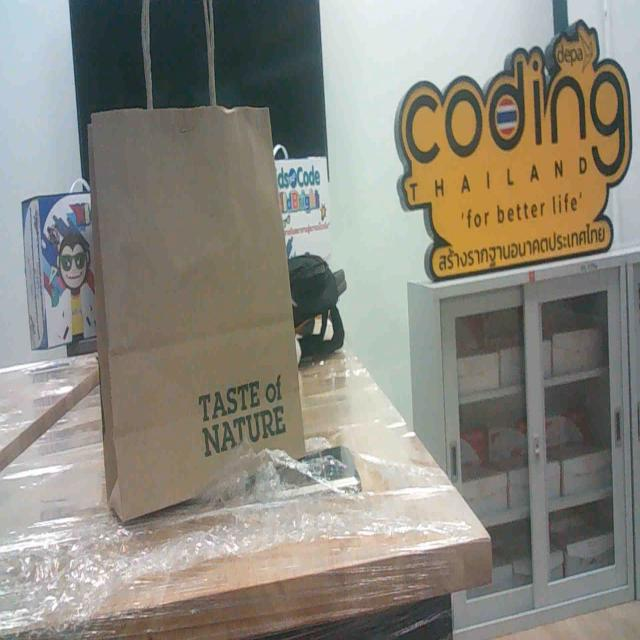bag: (74, 85, 312, 506)
